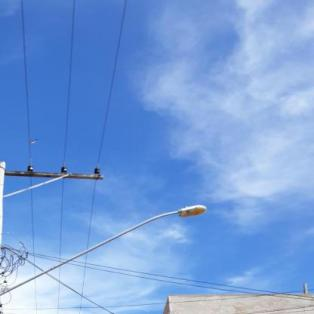Poste: (0, 162, 8, 314)
